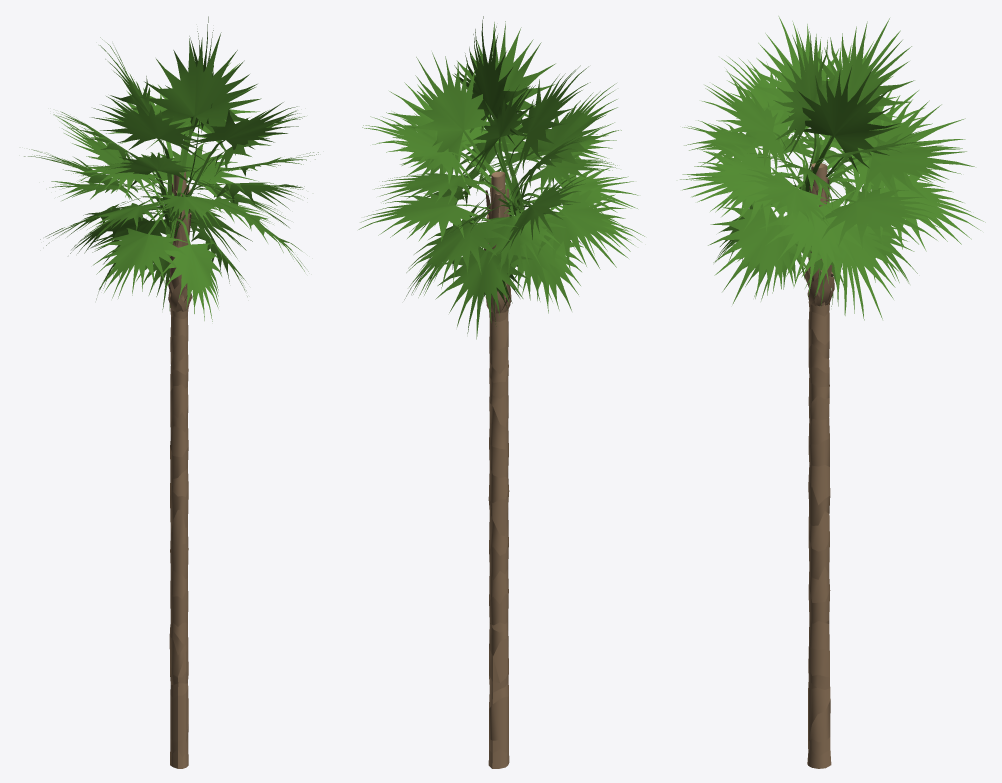
Rendered from tree_palm_cab_A.fbx.
3 renders of one model, left to right at view 1: azimuth 30°, elevation 25°; view 2: azimuth 150°, elevation 25°; view 3: azimuth 270°, elevation 25°, orthographic.
Visible parts, largest first — view 1: trunk_cab, leaf_cab_A_7, leaf_cab_A_25, leaf_cab_A_4, leaf_cab_A_28, leaf_cab_A_5, leaf_cab_A_1, leaf_cab_A_3, leaf_cab_A_21, trunk_cab_peel, leaf_cab_A_22, leaf_cab_A_18 (+13 smaller); view 2: trunk_cab, leaf_cab_A_30, leaf_cab_A_20, leaf_cab_A_14, leaf_cab_A_11, leaf_cab_A_1, leaf_cab_A_7, leaf_cab_A_3, leaf_cab_A_5, leaf_cab_A_4, leaf_cab_A_8, leaf_cab_A_13 (+12 smaller); view 3: trunk_cab, leaf_cab_A_30, leaf_cab_A_19, leaf_cab_A_9, leaf_cab_A_1, leaf_cab_A_16, leaf_cab_A_18, leaf_cab_A_12, leaf_cab_A_29, leaf_cab_A_5, leaf_cab_A_7, leaf_cab_A_11 (+12 smaller).
Boxes of the visible parts, x1,y1,x2,y2 form: trunk_cab: (169,171,188,768); leaf_cab_A_7: (137,32,261,256); leaf_cab_A_25: (93,213,189,298); leaf_cab_A_4: (91,93,208,234); leaf_cab_A_28: (156,219,221,321); leaf_cab_A_5: (166,102,302,232); leaf_cab_A_1: (133,143,258,237); leaf_cab_A_3: (106,150,201,234); leaf_cab_A_21: (73,157,171,212); trunk_cab_peel: (167,183,191,312); leaf_cab_A_22: (145,192,223,229); leaf_cab_A_18: (185,182,307,209); trunk_cab: (488,171,509,768); leaf_cab_A_30: (410,52,511,200); leaf_cab_A_20: (519,179,629,271); leaf_cab_A_14: (435,242,532,339); leaf_cab_A_11: (406,198,519,297); leaf_cab_A_1: (358,193,511,241); leaf_cab_A_7: (454,16,529,178); leaf_cab_A_3: (521,83,617,197); leaf_cab_A_5: (452,21,555,198); leaf_cab_A_4: (508,65,590,209); leaf_cab_A_8: (362,112,515,215); leaf_cab_A_13: (469,202,567,275); trunk_cab: (807,163,831,768); leaf_cab_A_30: (789,67,899,191); leaf_cab_A_19: (708,201,820,304); leaf_cab_A_9: (813,18,914,163); leaf_cab_A_1: (821,185,939,249); leaf_cab_A_16: (759,182,867,297); leaf_cab_A_18: (688,142,801,232); leaf_cab_A_12: (789,183,904,320); leaf_cab_A_29: (809,130,974,197); leaf_cab_A_5: (702,69,798,186); leaf_cab_A_7: (773,31,834,180); leaf_cab_A_11: (829,160,985,251).
Bounding box in the file's own units: 362 × 971 × 368.
